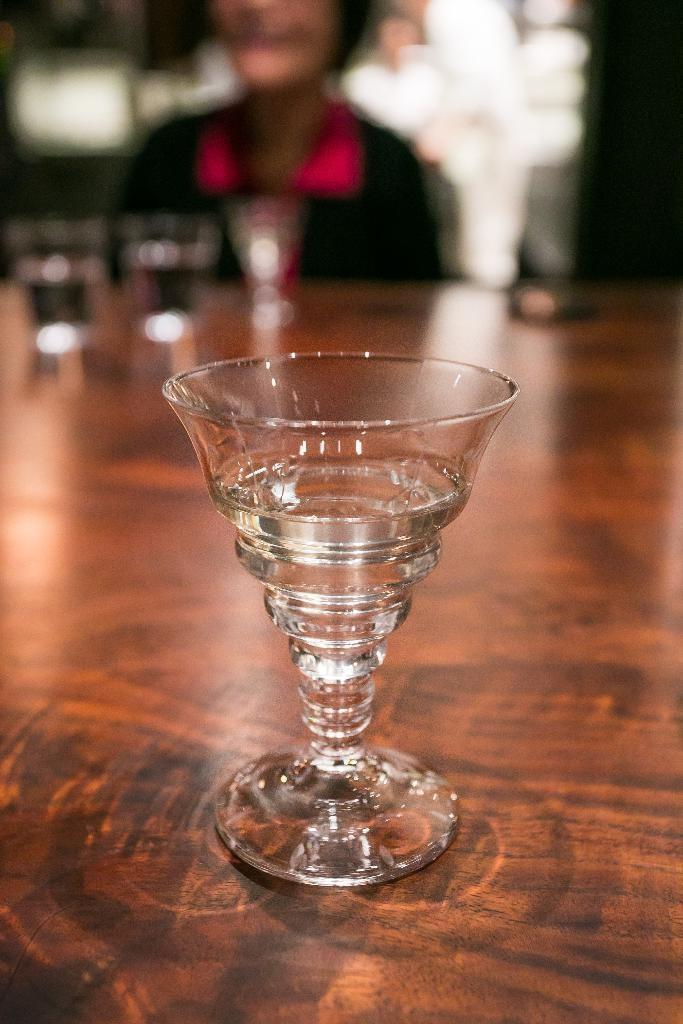glass-wine: (160, 346, 519, 890)
